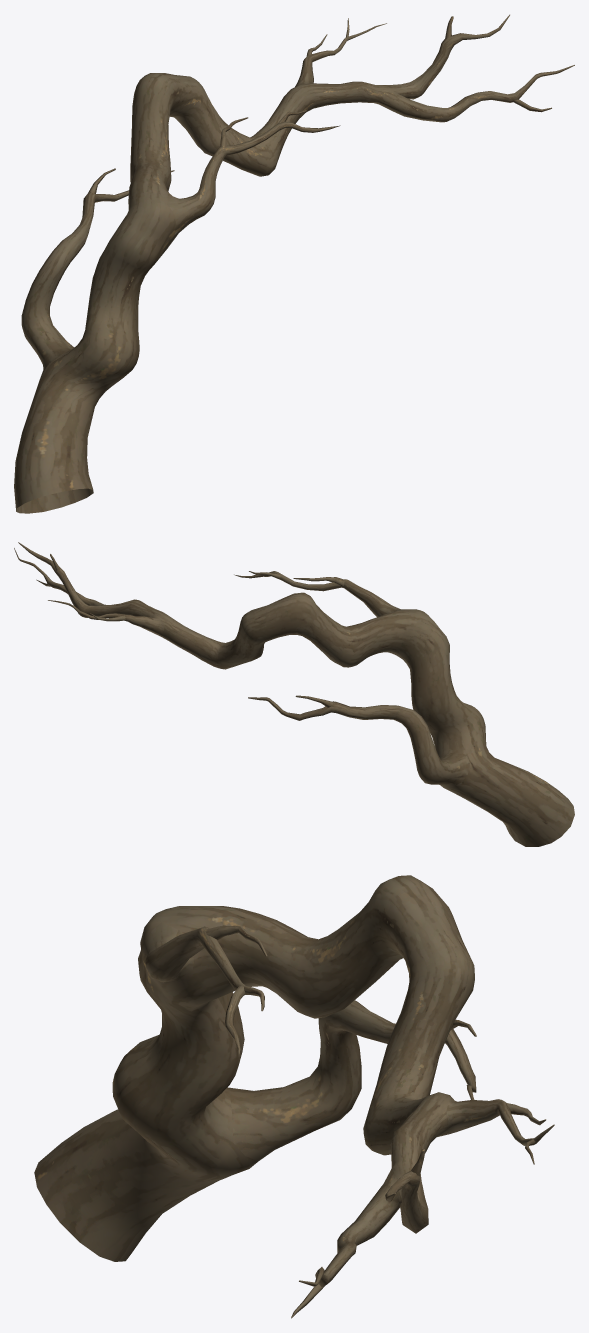
Rendered from Area_Xm_Stone_JQR_Full_Tm_M_04.fbx.
The picture shows the model from 3 angles, top to bottom: view 1: azimuth 30°, elevation 25°; view 2: azimuth 150°, elevation 25°; view 3: azimuth 270°, elevation 25°; orthographic projection. The views are drawn at different scales.
Parts seen in each view (by area): view 1: Area_Xm_Stone_JQR_Full_Tm_M_04_Lod0; view 2: Area_Xm_Stone_JQR_Full_Tm_M_04_Lod0; view 3: Area_Xm_Stone_JQR_Full_Tm_M_04_Lod0.
Boxes of the visible parts, x1=… form: Area_Xm_Stone_JQR_Full_Tm_M_04_Lod0: x1=14, y1=14, x2=574, y2=513; Area_Xm_Stone_JQR_Full_Tm_M_04_Lod0: x1=14, y1=542, x2=574, y2=846; Area_Xm_Stone_JQR_Full_Tm_M_04_Lod0: x1=34, y1=875, x2=554, y2=1318.
Size of the model in its own units: 108 by 54.01 by 48.32.
1 material, 1 textured.
